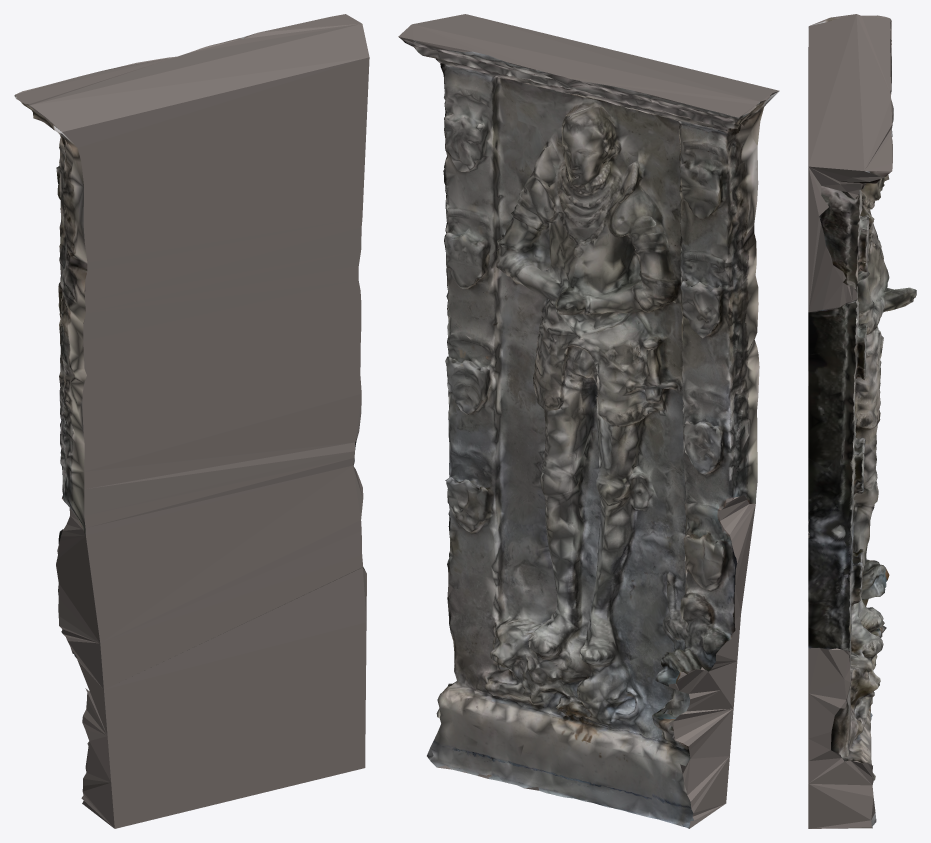
Rendered from RitterKlein.fbx.
3 views of the same model, side by side, from view 1: azimuth 30°, elevation 25°; view 2: azimuth 150°, elevation 25°; view 3: azimuth 270°, elevation 25° (orthographic). The views are drawn at different scales.
Visible parts, largest first — view 1: RitterKleinCleanedUp; view 2: RitterKleinCleanedUp; view 3: RitterKleinCleanedUp.
Part boxes in pixels (x1,y1,x2,y2): RitterKleinCleanedUp: (14,14,369,828); RitterKleinCleanedUp: (398,14,779,828); RitterKleinCleanedUp: (808,14,916,828).
Size of the model in its own units: 169 by 343 by 49.98.
1 material, 1 textured.
